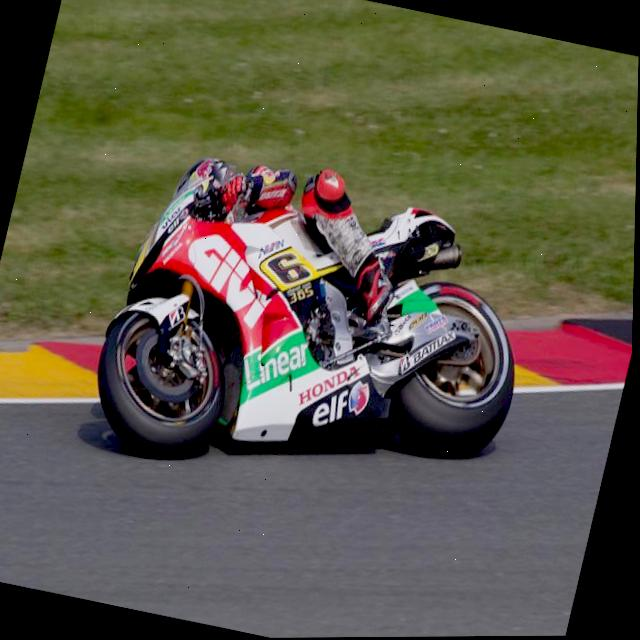motorcycle: (77, 133, 565, 535)
